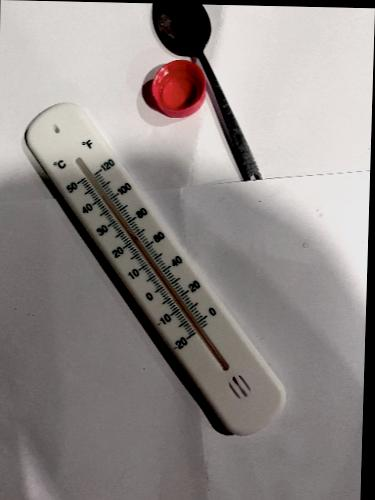thermo: (21, 93, 294, 444)
